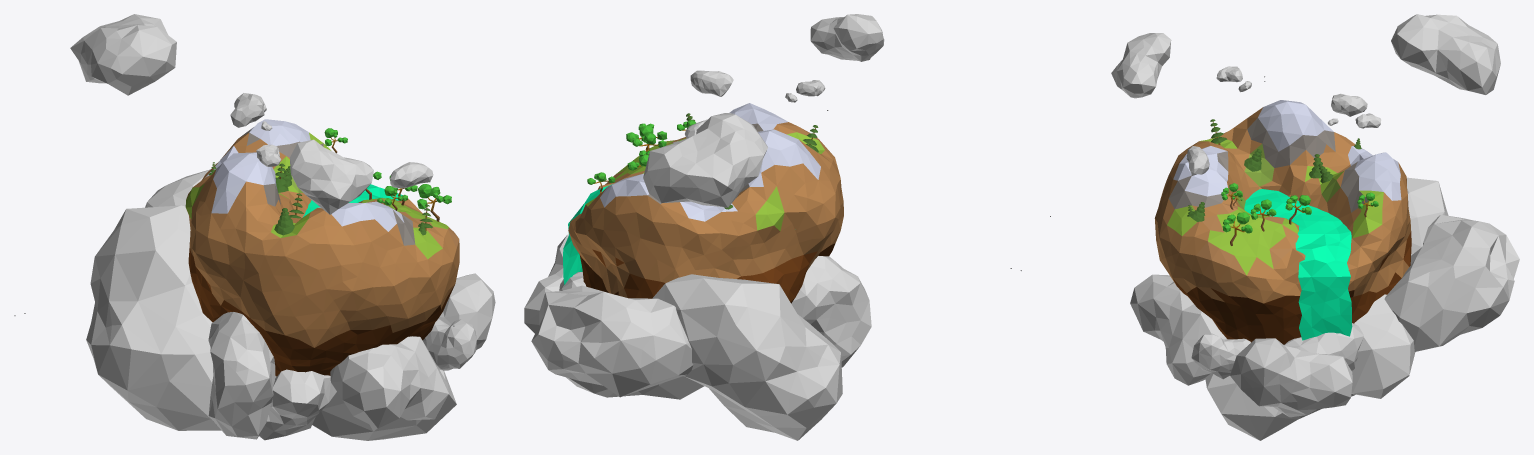
Rendered from polyisland.glb.
3 renders of one model, left to right at view 1: azimuth 30°, elevation 25°; view 2: azimuth 150°, elevation 25°; view 3: azimuth 270°, elevation 25°, orthographic. The views are drawn at different scales.
Parts seen in each view (by area): view 1: Icosphere.001_17, Icosphere_2, Cube.005_9, Plane_3; view 2: Icosphere.001_17, Icosphere_2, Plane_3; view 3: Icosphere.001_17, Icosphere_2, Plane_3, Cube.005_9.
Part boxes in pixels (x1=…): Icosphere.001_17: x1=70, y1=14, x2=495, y2=440; Icosphere_2: x1=185, y1=119, x2=459, y2=376; Cube.005_9: x1=417, y1=184, x2=451, y2=221; Plane_3: x1=302, y1=184, x2=402, y2=217; Icosphere.001_17: x1=524, y1=14, x2=884, y2=440; Icosphere_2: x1=568, y1=103, x2=843, y2=303; Plane_3: x1=563, y1=184, x2=612, y2=284; Icosphere.001_17: x1=1111, y1=14, x2=1519, y2=440; Icosphere_2: x1=1154, y1=100, x2=1411, y2=344; Plane_3: x1=1244, y1=189, x2=1352, y2=340; Cube.005_9: x1=1222, y1=212, x2=1252, y2=245.
Size of the model in its own units: 2.99 by 2.31 by 2.84.
